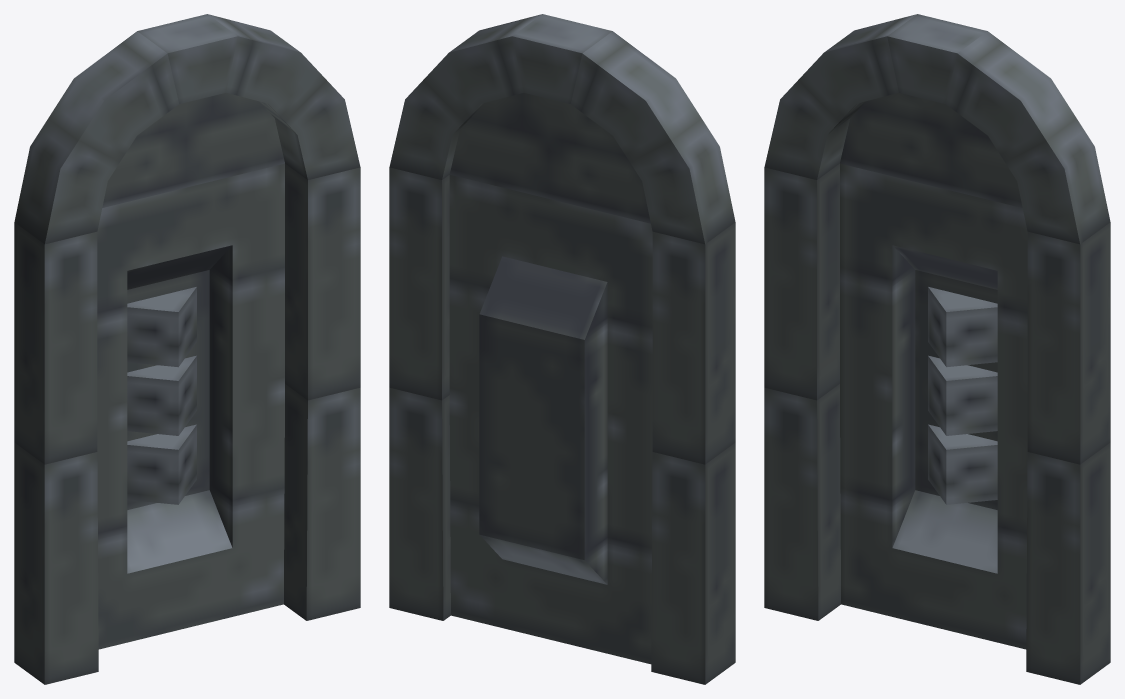
File: arch_inside_small_end.fbx
3 renders of one model, left to right at view 1: azimuth 30°, elevation 25°; view 2: azimuth 150°, elevation 25°; view 3: azimuth 330°, elevation 25°, orthographic.
Visible parts, largest first — view 1: arch_inside_small_end; view 2: arch_inside_small_end; view 3: arch_inside_small_end.
Part boxes in pixels (x1,y1,x2,y2): arch_inside_small_end: (14, 14, 360, 684); arch_inside_small_end: (389, 14, 735, 684); arch_inside_small_end: (764, 14, 1110, 684).
Bounding box in the file's own units: 24 × 43.7 × 6.
